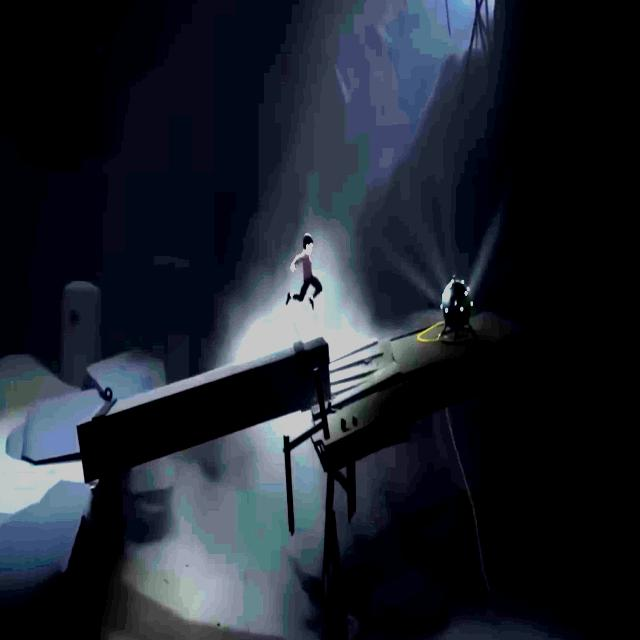boy: (290, 234, 320, 304)
